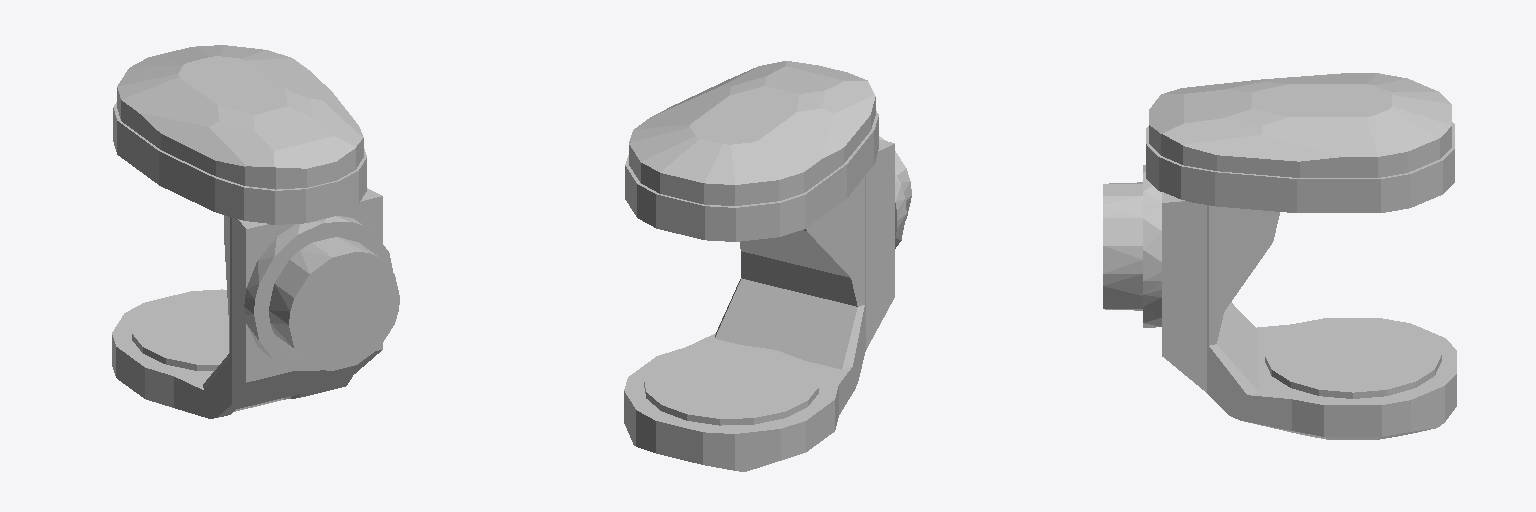
Rendered from kuka_seg_5.obj.
The picture shows the model from 3 angles: view 1: azimuth 30°, elevation 25°; view 2: azimuth 150°, elevation 25°; view 3: azimuth 270°, elevation 25°; orthographic projection.
Visible parts, largest first — view 1: Kuka_Seg_5; view 2: Kuka_Seg_5; view 3: Kuka_Seg_5.
Boxes of the visible parts, x1=… form: Kuka_Seg_5: x1=112, y1=45, x2=399, y2=418; Kuka_Seg_5: x1=624, y1=61, x2=911, y2=471; Kuka_Seg_5: x1=1103, y1=73, x2=1456, y2=439.
Size of the model in its own units: 4.72 by 7.88 by 8.13.